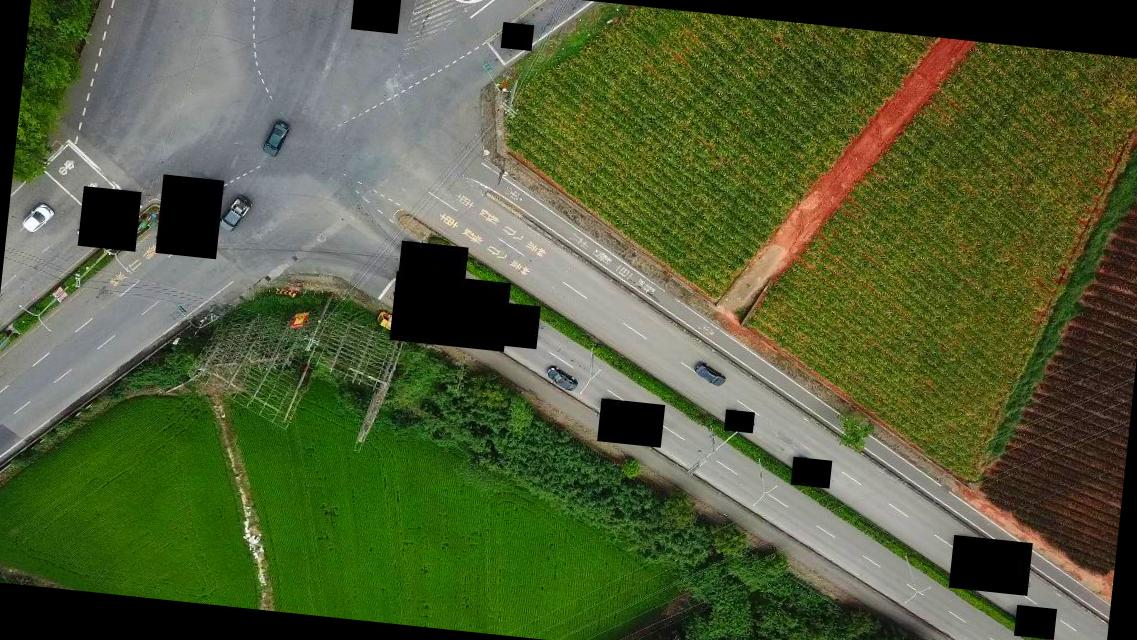vehicle: (218, 195, 252, 233), (18, 202, 53, 236), (262, 116, 290, 158), (545, 364, 580, 392), (693, 362, 726, 387), (374, 311, 406, 335), (960, 566, 988, 588)
